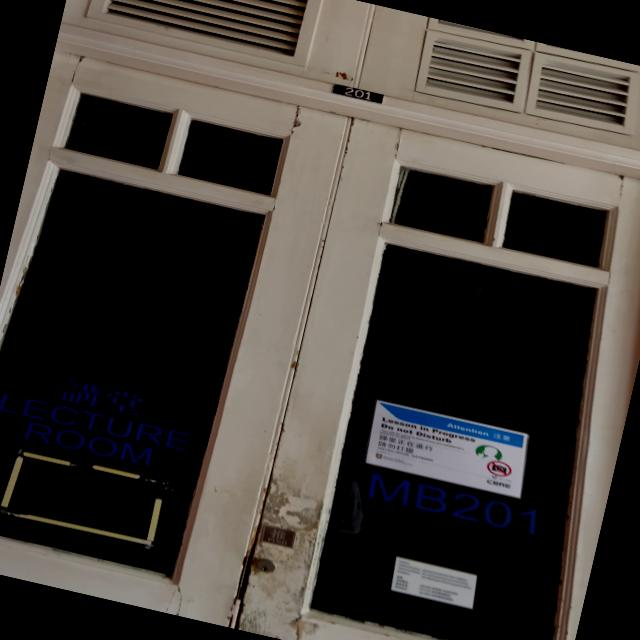room201: (329, 82, 388, 110)
room201Window: (355, 466, 548, 544)
